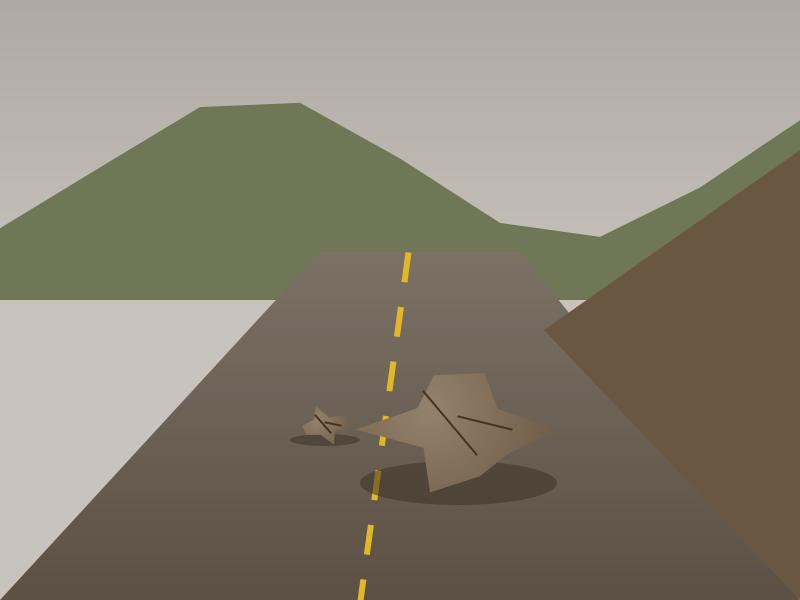ROAD_OBSTACLE: (370, 366, 547, 493), (300, 408, 350, 443)
